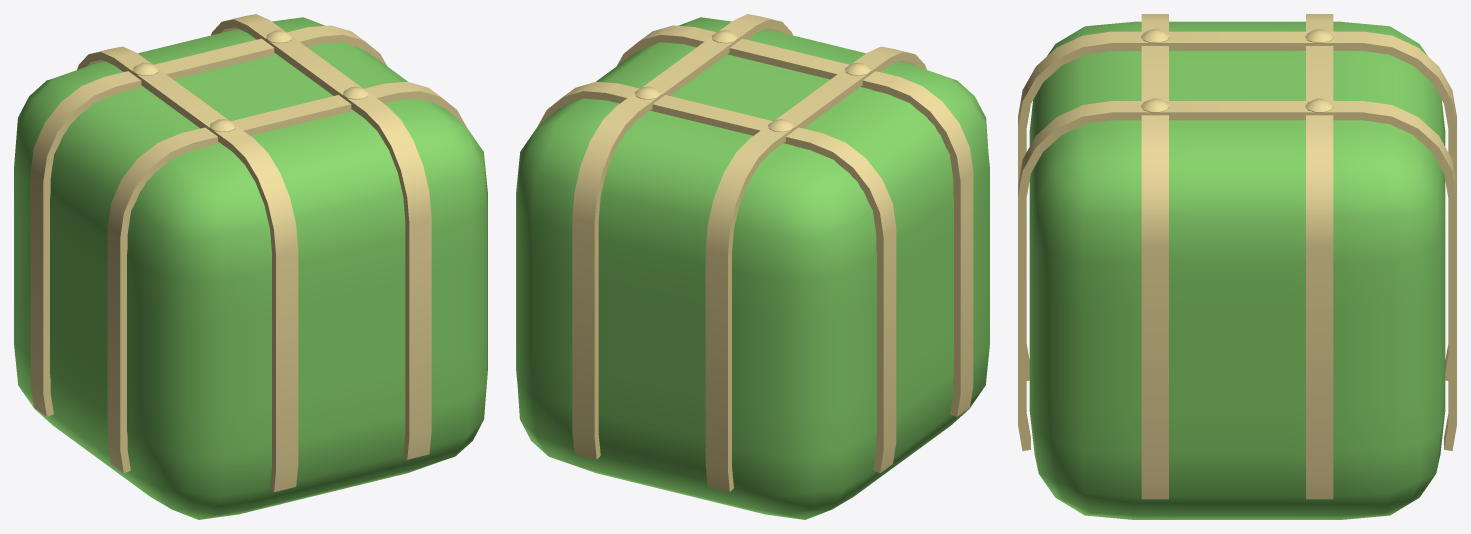
The model's file is jelly_block.glb.
The picture shows the model from 3 angles, left to right: view 1: azimuth 30°, elevation 25°; view 2: azimuth 150°, elevation 25°; view 3: azimuth 270°, elevation 25°; orthographic projection. The views are drawn at different scales.
Visible parts, largest first — view 1: jelly_block; view 2: jelly_block; view 3: jelly_block.
Boxes of the visible parts, x1=… form: jelly_block: x1=14, y1=14, x2=487, y2=519; jelly_block: x1=516, y1=14, x2=989, y2=519; jelly_block: x1=1018, y1=14, x2=1456, y2=519.
Bounding box in the file's own units: 1.58 × 1.59 × 1.6.
